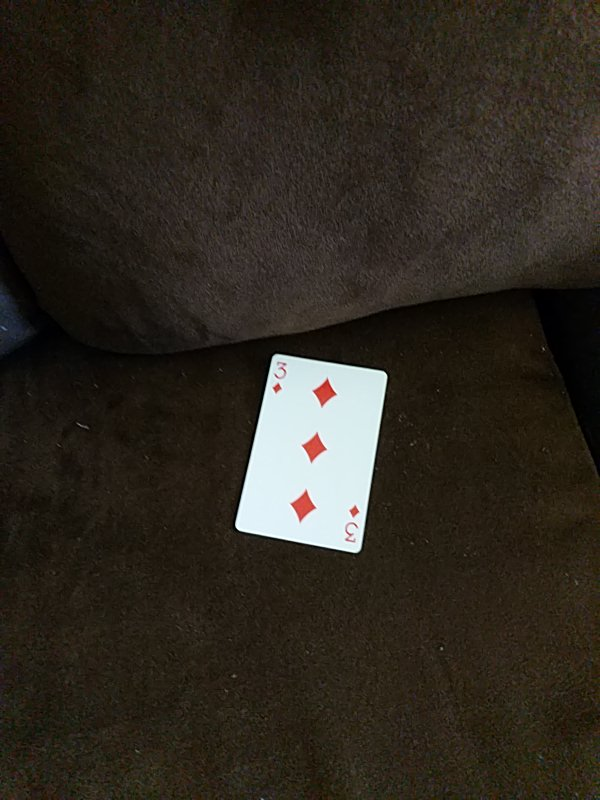Diamonds: (235, 353, 387, 558)
